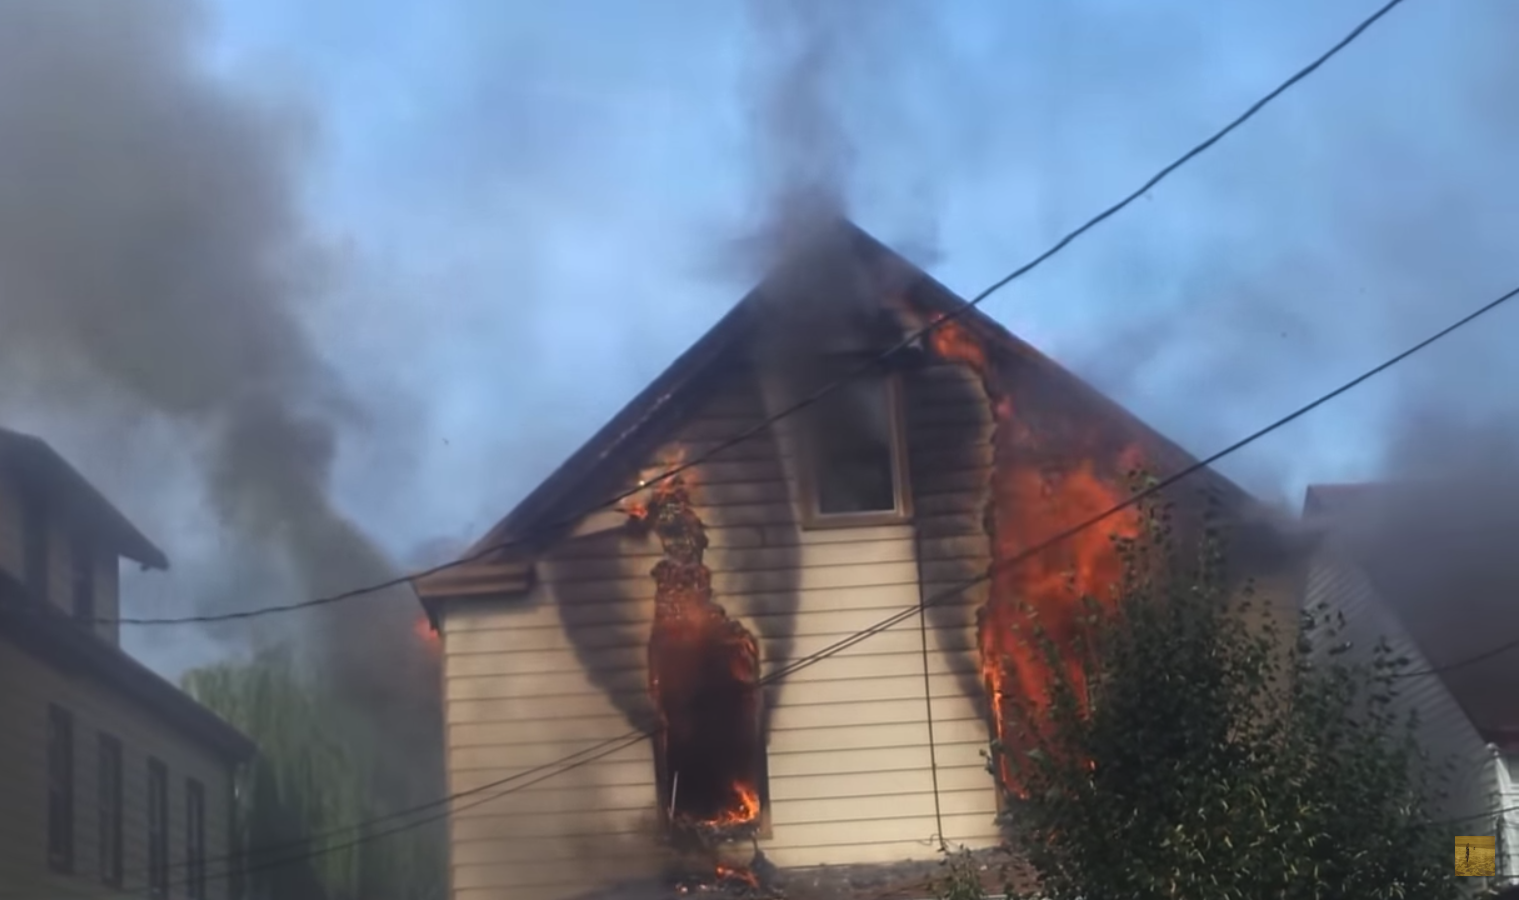fire: (857, 318, 1185, 732)
